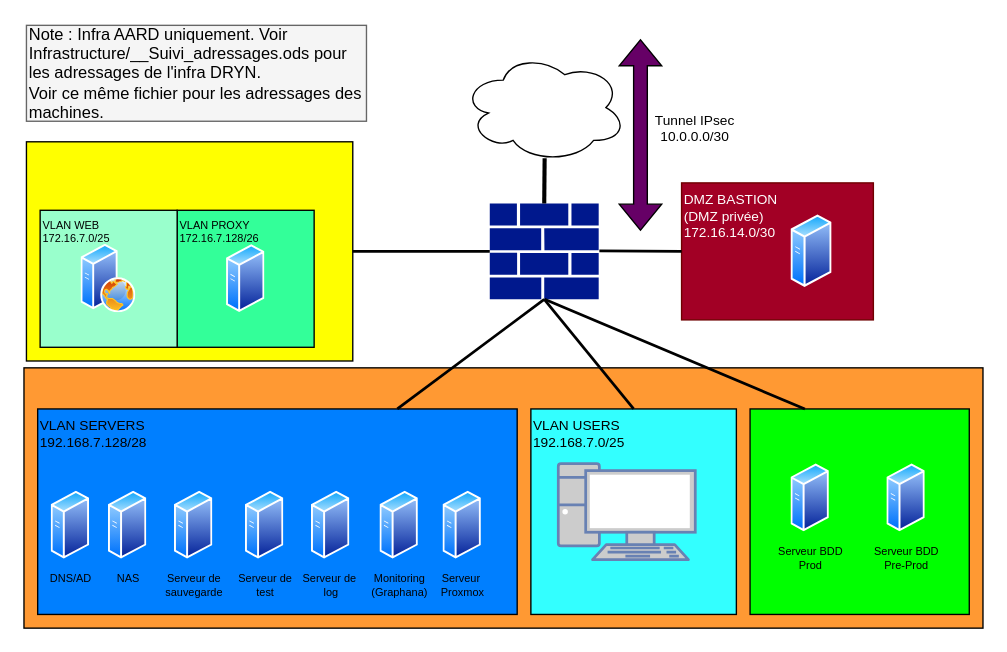
Image size: 1007x652. Some labels were removed from this diagram. The box of each missing label's shape, as (x1, y1, x2, y2) in pixels:
Bastion: (790, 214, 832, 287)
DMZ WEB (DMZ publique) 172.16.7.0/24: (25, 140, 353, 361)
Internet: (461, 51, 627, 162)
LAN Stormshield 192.168.7.0/24: (23, 366, 983, 628)
Postes utilisateurs: (556, 462, 696, 560)
Reverse Proxy: (226, 244, 264, 312)
Serveur Web: (81, 244, 135, 312)
VLAN DATABASE 192.168.7.144/29: (749, 408, 969, 614)
